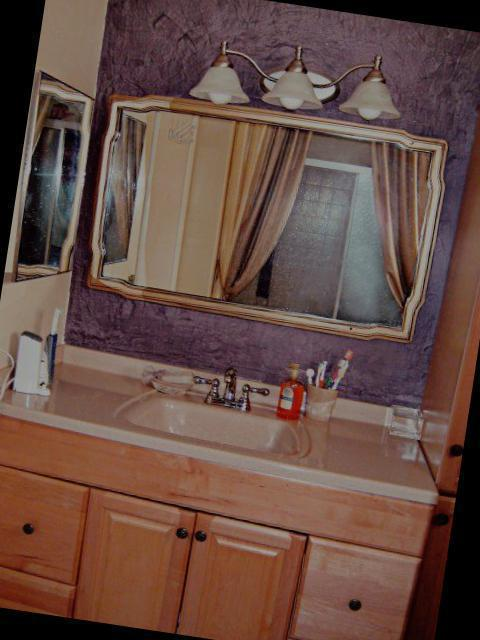Lavamanos: (112, 349, 326, 472)
